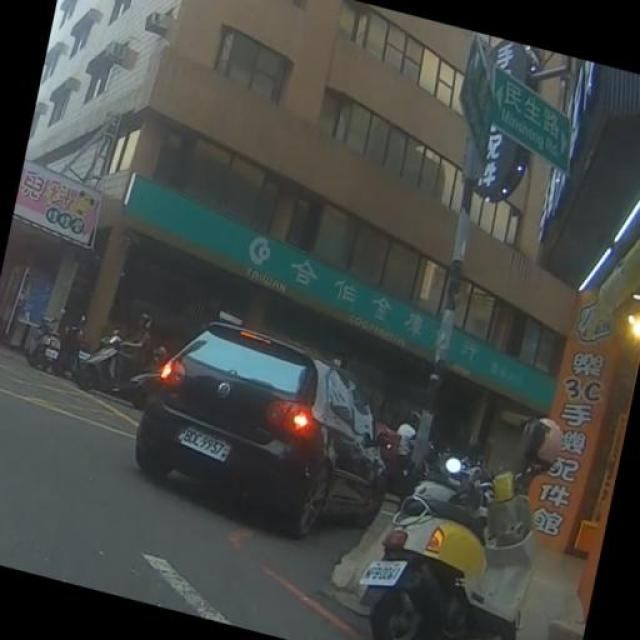illegalparking: (120, 284, 436, 567)
